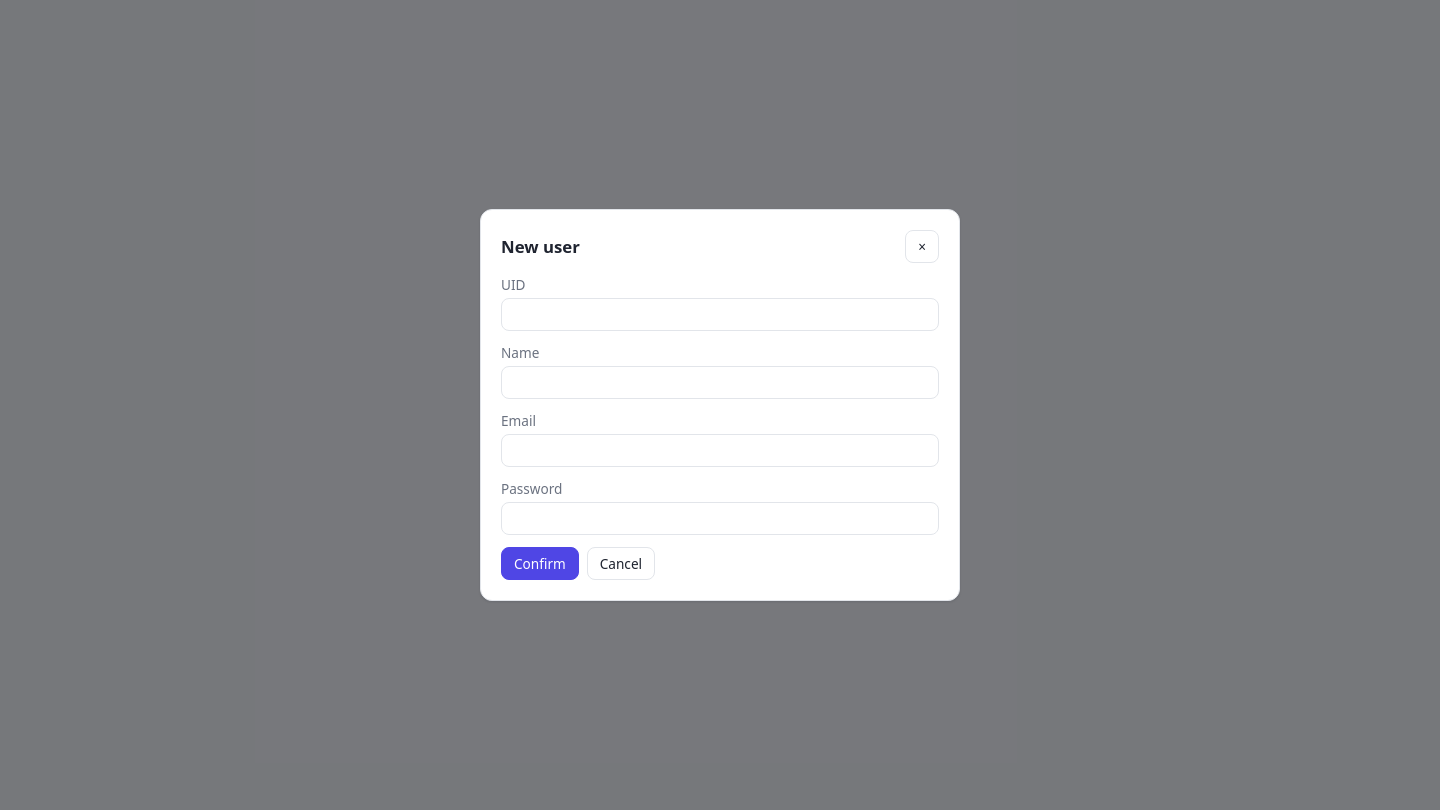
Test: missing fields asks for uid, name and password
The width and height of the screenshot is (1440, 810).
Type "carol" into the field with test id "input-uid".
click(720, 314); type("carol")  # box 501,298 -> 939,331
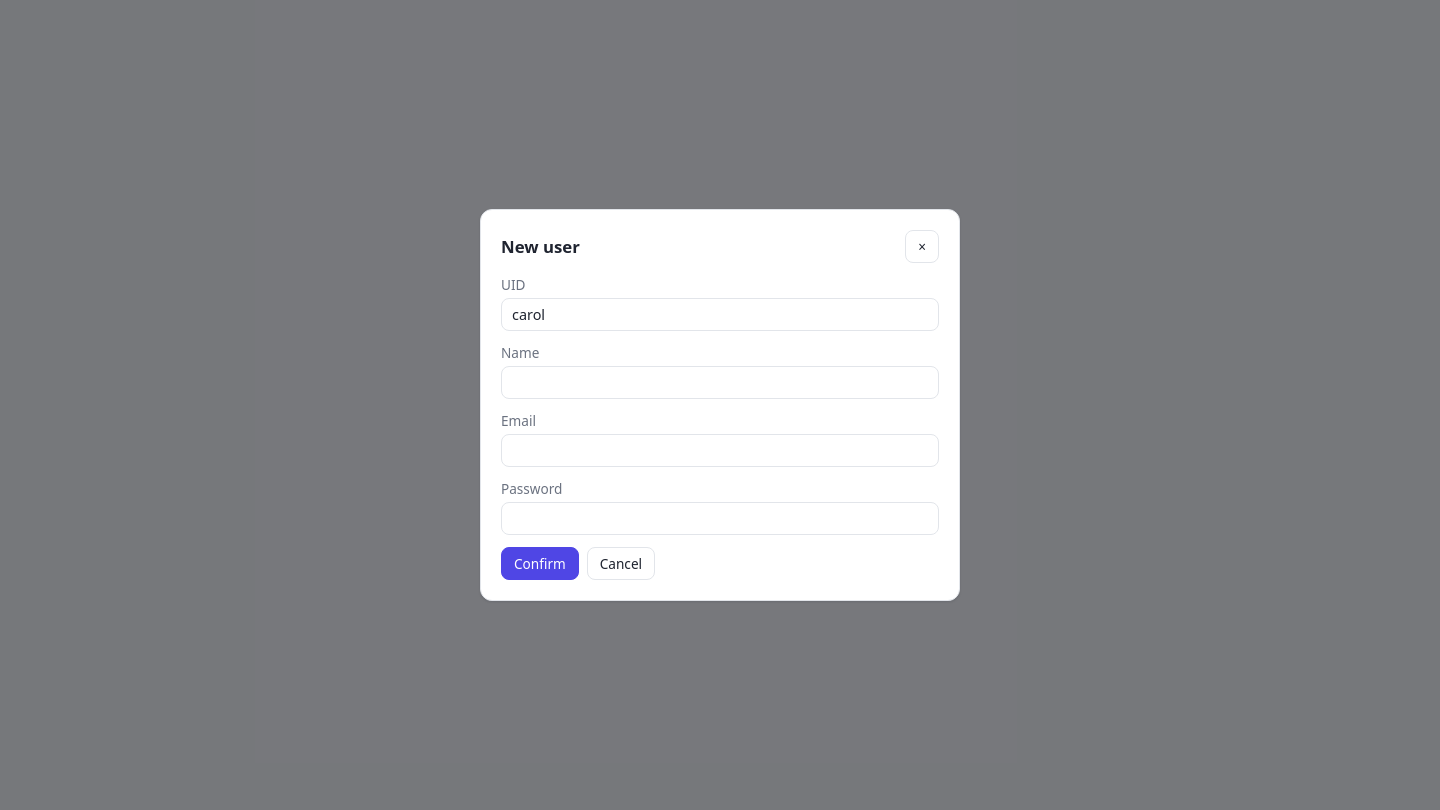
Click the button with test id "create-button".
click(540, 564)  # box 501,547 -> 579,580
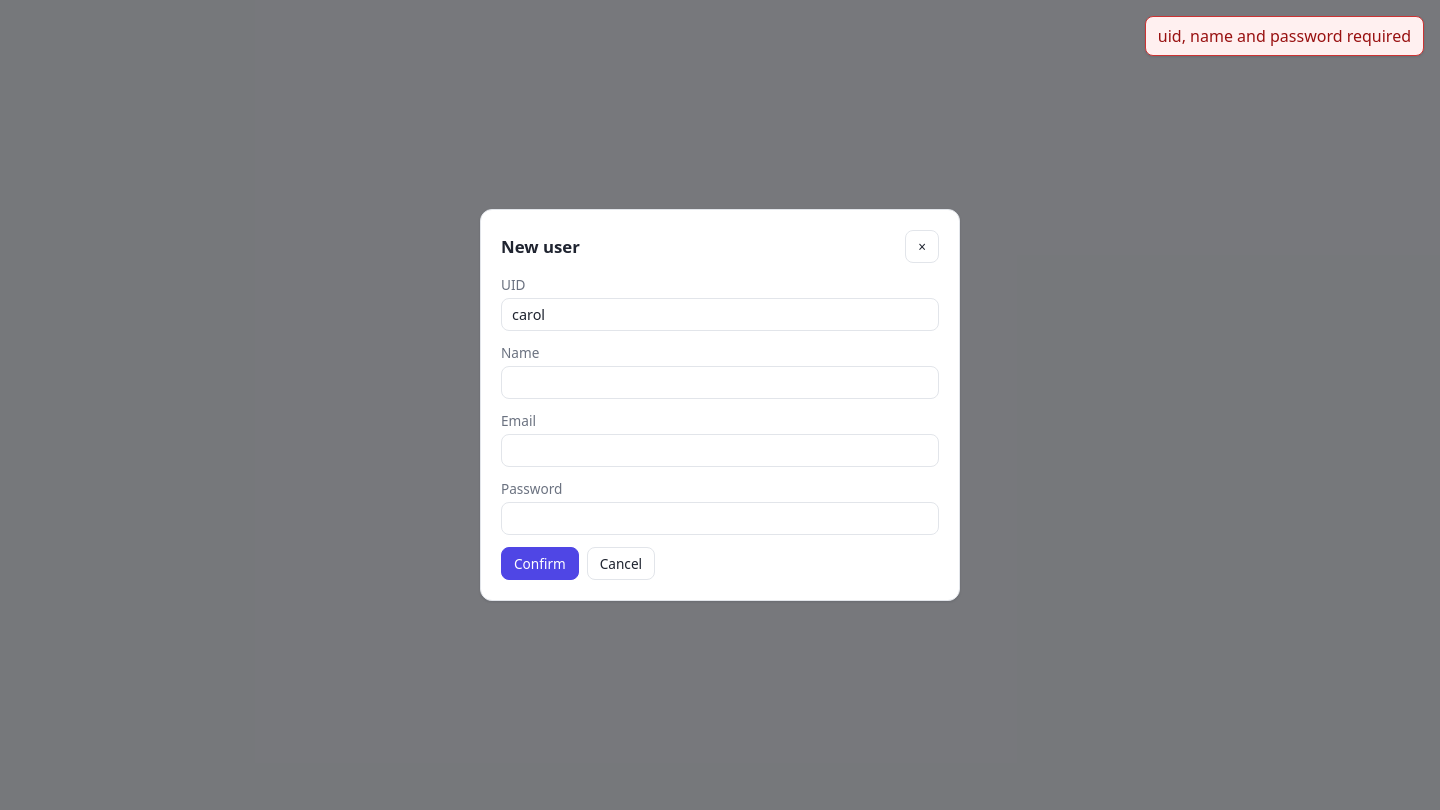
Now the text with test id "toast-error" reads "uid, name and password required", box 1158,25 -> 1411,47
